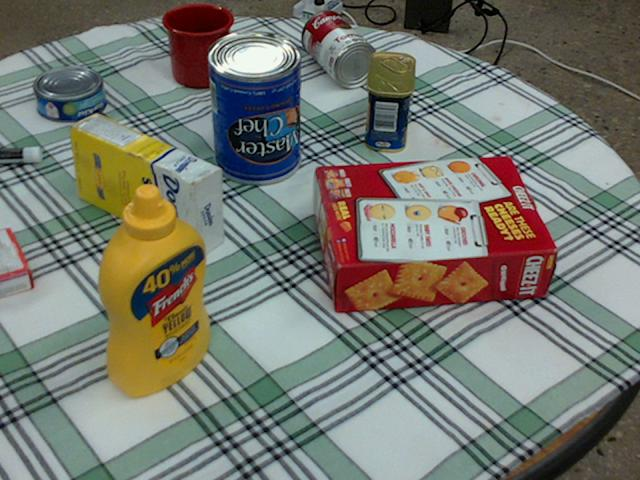cracker_box: (315, 155, 557, 313)
gelatin_box: (0, 227, 34, 297)
large_marker: (0, 146, 41, 163)
master_chef_can: (205, 31, 299, 184)
mug: (163, 3, 235, 86)
mustard_bottle: (96, 184, 209, 394)
potted_meat_can: (364, 51, 413, 151)
sugar_box: (68, 113, 222, 257)
tomato_soup_can: (301, 10, 376, 86)
tuna_fish_can: (33, 65, 106, 121)
